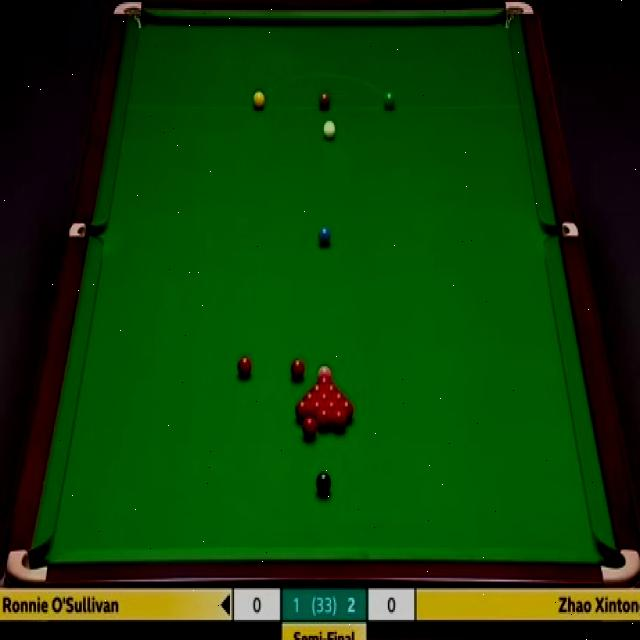black-ball: (316, 470, 331, 496)
blue-ball: (318, 225, 331, 244)
brown-ball: (318, 93, 331, 109)
green-ball: (382, 89, 397, 112)
pink-ball: (317, 365, 333, 382)
red-ball: (333, 406, 346, 436), (295, 355, 310, 379), (316, 408, 332, 430), (238, 355, 252, 380), (296, 397, 310, 422), (302, 418, 317, 439), (338, 401, 354, 420), (317, 391, 333, 407), (324, 380, 338, 397), (311, 401, 324, 419), (301, 390, 316, 405), (311, 381, 323, 397), (326, 401, 339, 414), (333, 392, 346, 402)
white-ball: (324, 121, 336, 139)
yellow-ball: (252, 90, 266, 110)
